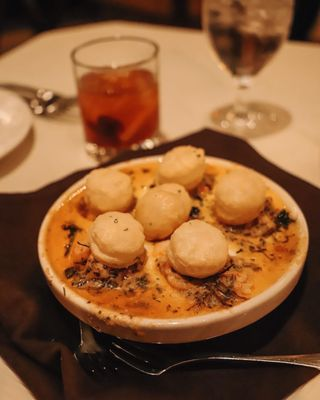pasta: (89, 211, 146, 267)
pizza: (71, 35, 161, 160)
salad: (109, 338, 320, 376)
sushi: (37, 144, 318, 344)
